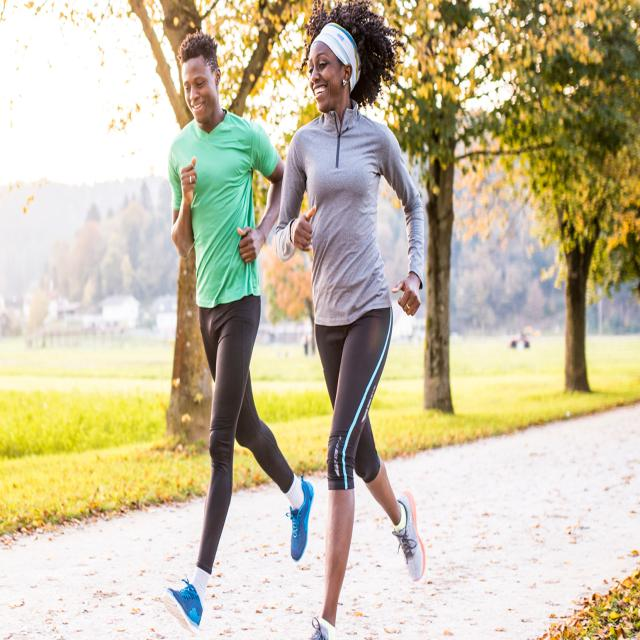Person: (276, 0, 426, 640), (166, 28, 315, 633)
